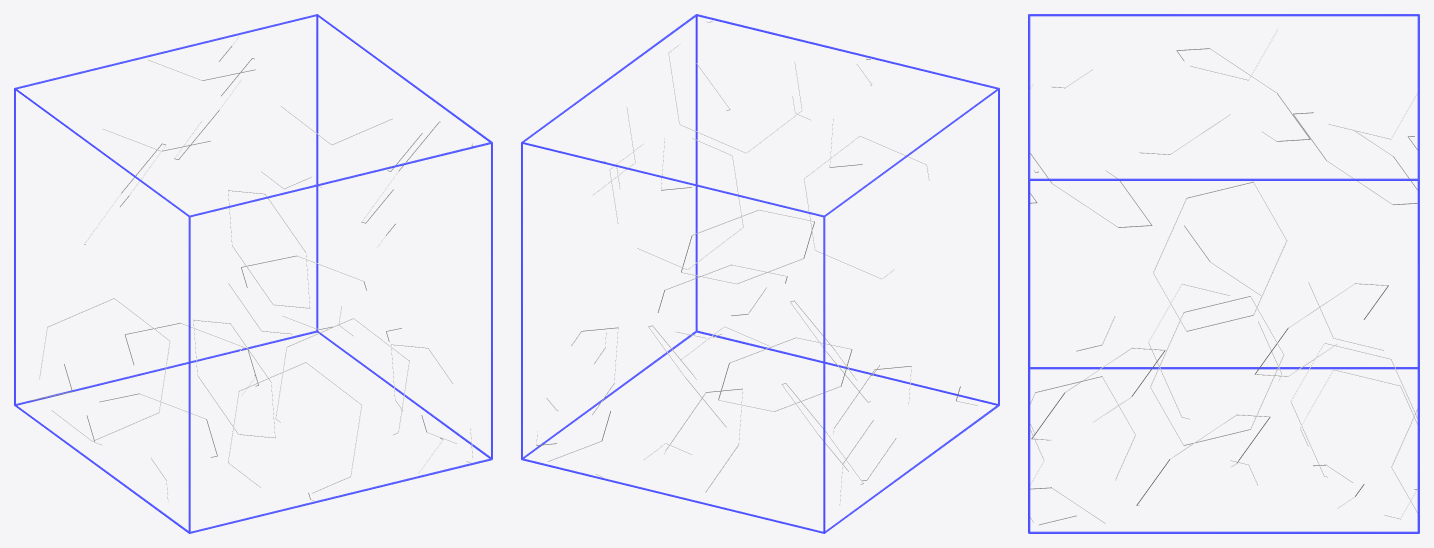
The picture shows the model from 3 angles, left to right: view 1: azimuth 30°, elevation 25°; view 2: azimuth 150°, elevation 25°; view 3: azimuth 270°, elevation 25°; orthographic projection. The views are drawn at different scales.
Visible parts, largest first — view 1: Shape_IndexedLineSet, Shape_IndexedLineSet.001; view 2: Shape_IndexedLineSet, Shape_IndexedLineSet.001; view 3: Shape_IndexedLineSet, Shape_IndexedLineSet.001.
Boxes of the visible parts, x1=… form: Shape_IndexedLineSet: x1=14, y1=14, x2=492, y2=533; Shape_IndexedLineSet.001: x1=30, y1=35, x2=473, y2=502; Shape_IndexedLineSet: x1=521, y1=14, x2=999, y2=533; Shape_IndexedLineSet.001: x1=536, y1=21, x2=977, y2=505; Shape_IndexedLineSet: x1=1028, y1=14, x2=1419, y2=533; Shape_IndexedLineSet.001: x1=1030, y1=28, x2=1417, y2=524.
Bounding box in the file's own units: 10.06 × 10.06 × 10.06.
